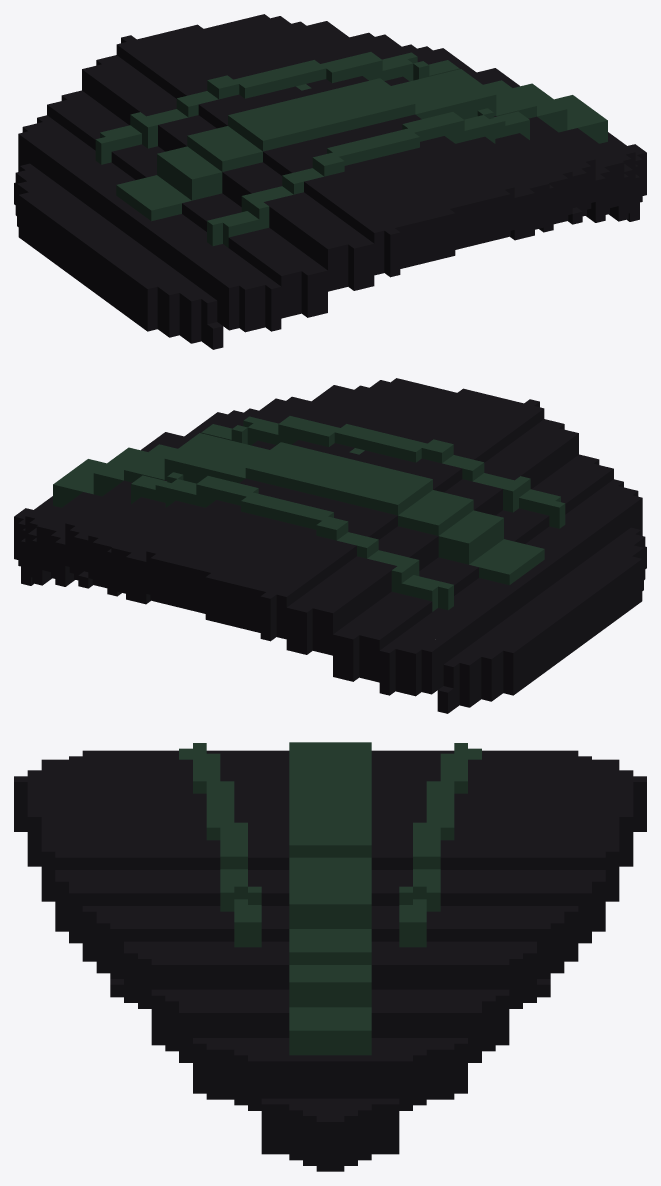
File: dragon_black_scale.glb
The picture shows the model from 3 angles, top to bottom: view 1: azimuth 30°, elevation 25°; view 2: azimuth 150°, elevation 25°; view 3: azimuth 270°, elevation 25°; orthographic projection. The views are drawn at different scales.
Visible parts, largest first — view 1: dragon_black_scale:compound; view 2: dragon_black_scale:compound; view 3: dragon_black_scale:compound.
Boxes of the visible parts, left/top/right/bottom form: dragon_black_scale:compound: left=14, top=14, right=646, bottom=349; dragon_black_scale:compound: left=14, top=378, right=646, bottom=713; dragon_black_scale:compound: left=14, top=742, right=646, bottom=1171.
Bounding box in the file's own units: 0.11 × 0.03 × 0.092.
